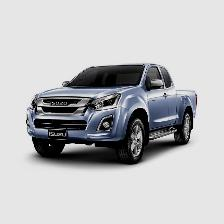NON-EV: (26, 65, 198, 168)
